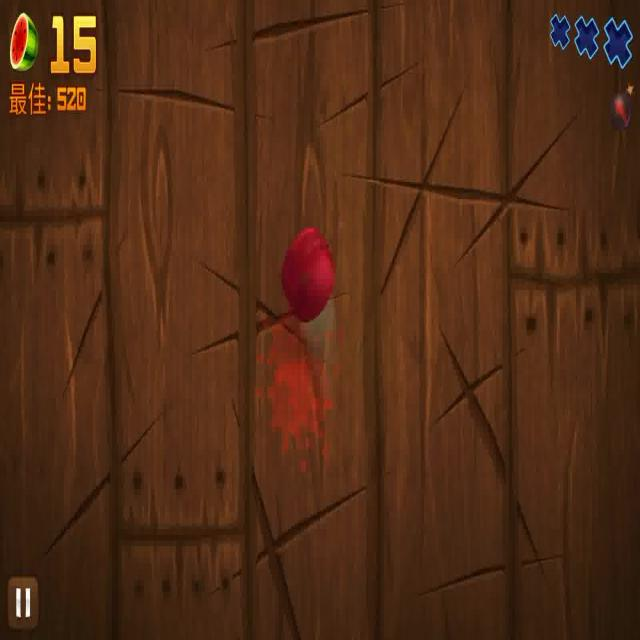fruit: (282, 222, 336, 316)
